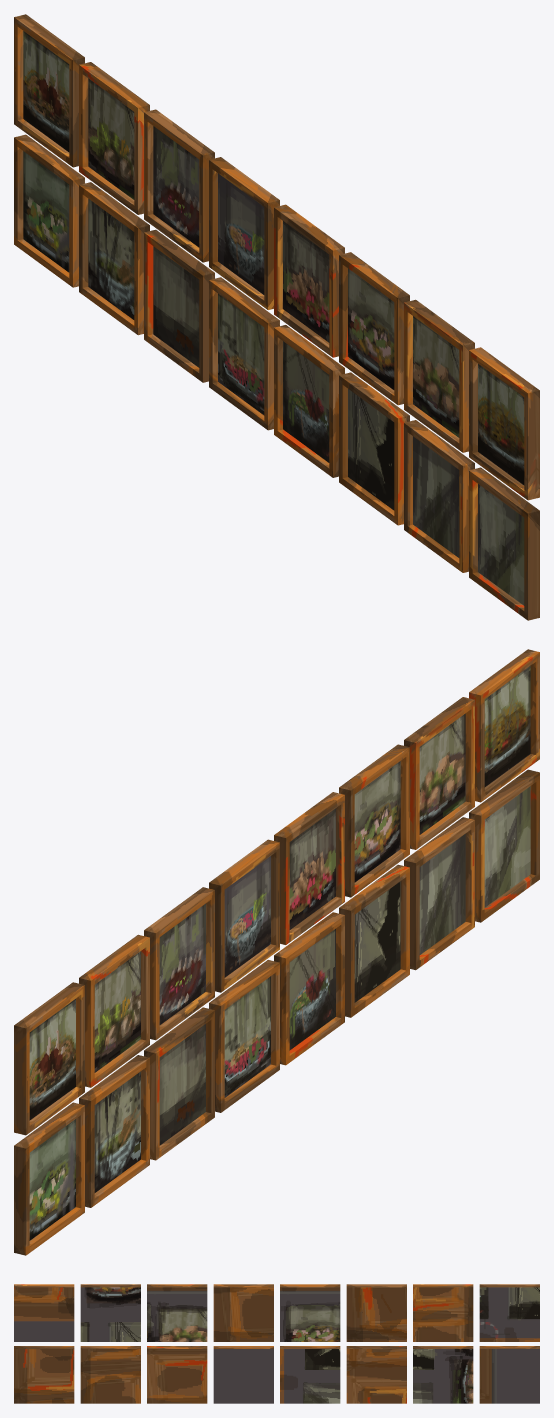
Rendered from SM_menuitems.fbx.
The picture shows the model from 3 angles, top to bottom: view 1: azimuth 30°, elevation 25°; view 2: azimuth 150°, elevation 25°; view 3: azimuth 270°, elevation 25°; orthographic projection. The views are drawn at different scales.
Parts seen in each view (by area): view 1: SM_menu; view 2: SM_menu; view 3: SM_menu.
Boxes of the visible parts, x1,y1,x2,y2 form: SM_menu: (14, 14, 539, 620); SM_menu: (14, 649, 539, 1255); SM_menu: (14, 1284, 539, 1403).
Size of the model in its own units: 5.28 by 95.29 by 391.
